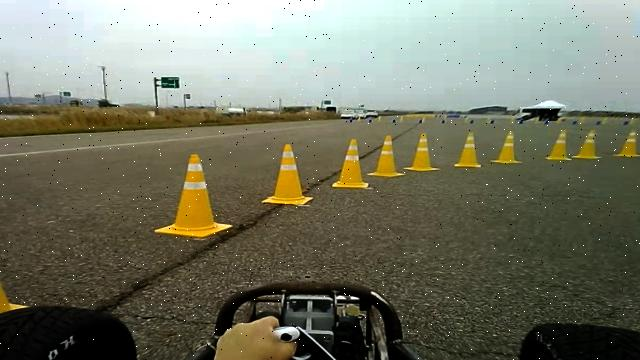yellow cone: (154, 153, 234, 238), (262, 143, 314, 206), (0, 239, 30, 321), (332, 138, 370, 188), (368, 135, 406, 177), (404, 132, 440, 172), (491, 130, 523, 164), (454, 131, 482, 167), (572, 129, 602, 159), (545, 128, 572, 160), (613, 130, 640, 157)
